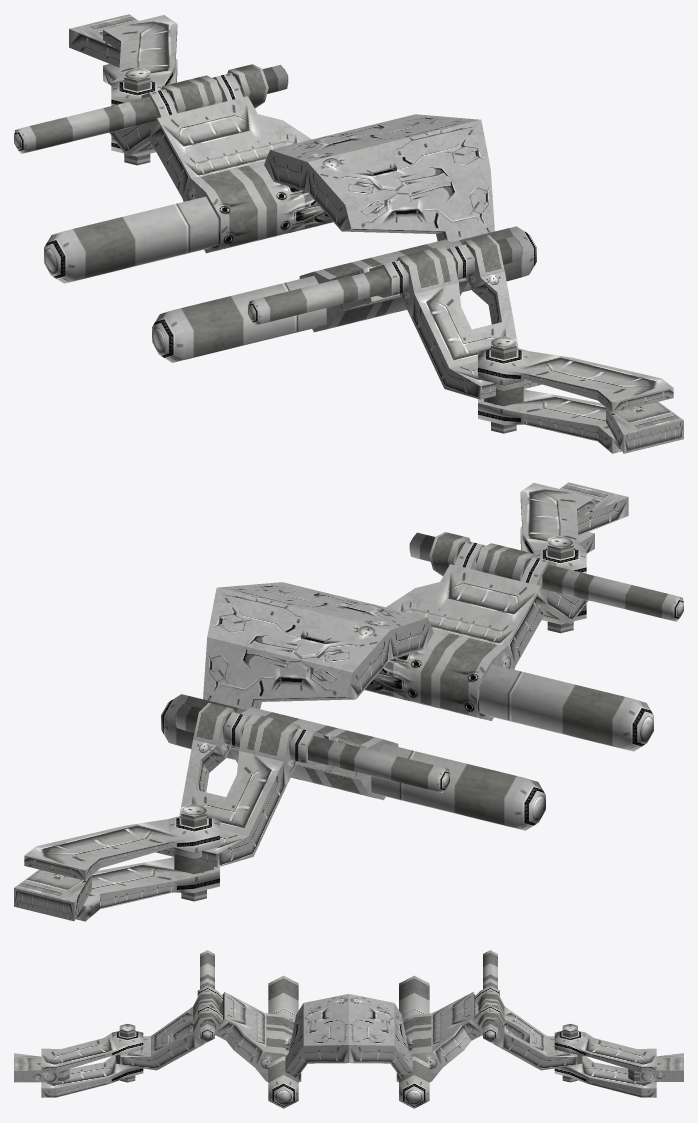
The model's file is spp23.obj.
The picture shows the model from 3 angles, top to bottom: view 1: azimuth 30°, elevation 25°; view 2: azimuth 150°, elevation 25°; view 3: azimuth 270°, elevation 25°; orthographic projection. The views are drawn at different scales.
Parts seen in each view (by area): view 1: R_10, SPP23_01SHAPE0, L_20, L_10, L_30, R_20, R_30, L_MOUNT010, R_MOUNT0; view 2: L_10, SPP23_01SHAPE0, R_20, R_10, R_30, L_20, L_30, R_MOUNT0, L_MOUNT010; view 3: SPP23_01SHAPE0, L_10, R_10, L_30, R_30, R_20, L_20, L_MOUNT010, R_MOUNT0.
Boxes of the visible parts, <box> form: R_10: <box>44,73,333,283</box>; SPP23_01SHAPE0: <box>264,114,494,241</box>; L_20: <box>248,235,542,399</box>; L_10: <box>152,226,536,362</box>; L_30: <box>478,336,673,453</box>; R_20: <box>14,64,288,156</box>; R_30: <box>103,15,177,165</box>; L_MOUNT010: <box>606,402,683,453</box>; R_MOUNT0: <box>69,14,138,67</box>; L_10: <box>364,541,653,751</box>; SPP23_01SHAPE0: <box>203,582,433,709</box>; R_20: <box>156,703,449,867</box>; R_10: <box>161,694,545,830</box>; R_30: <box>24,804,219,921</box>; L_20: <box>409,532,683,623</box>; L_30: <box>520,483,594,633</box>; R_MOUNT0: <box>14,869,91,921</box>; L_MOUNT010: <box>560,482,628,535</box>; SPP23_01SHAPE0: <box>285,994,412,1077</box>; L_10: <box>197,975,301,1108</box>; R_10: <box>396,975,499,1108</box>; L_30: <box>41,1023,143,1097</box>; R_30: <box>554,1023,656,1097</box>; R_20: <box>478,950,577,1070</box>; L_20: <box>120,950,219,1070</box>; L_MOUNT010: <box>14,1053,69,1082</box>; R_MOUNT0: <box>628,1053,683,1081</box>.
Bounding box in the file's own units: 68.08 × 23.2 × 174.
9 materials, 9 textured.
